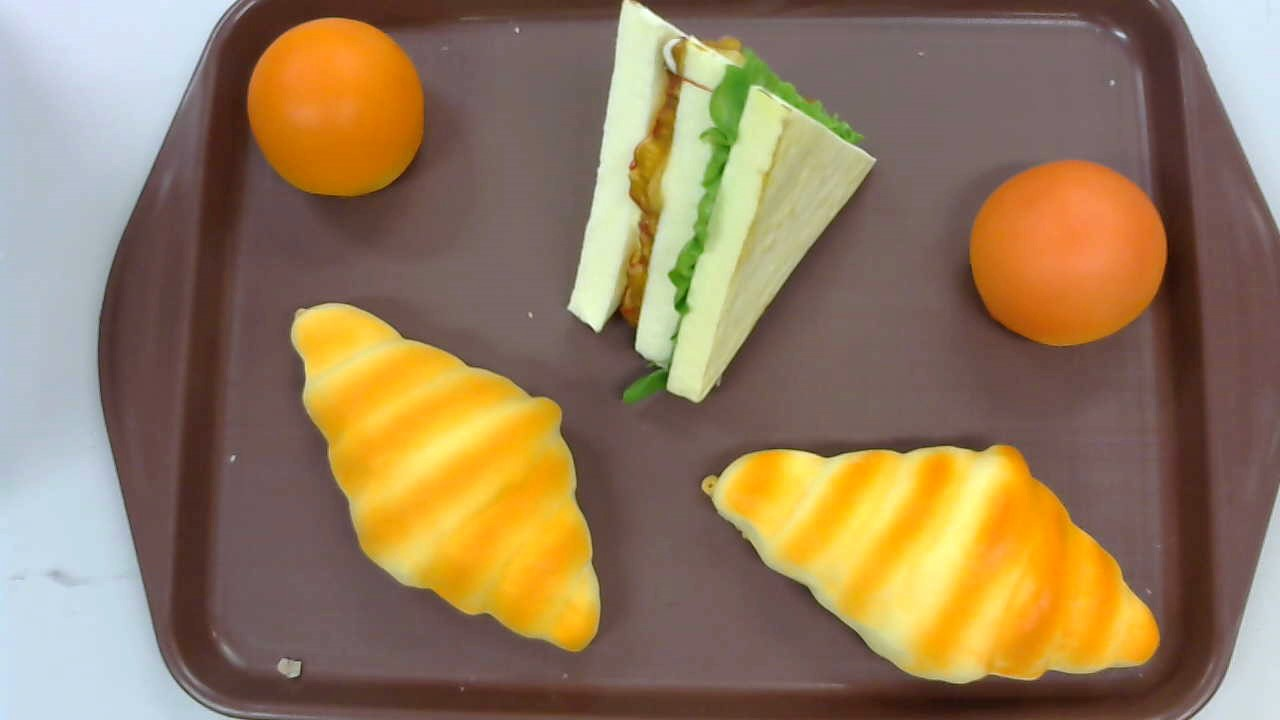bun: (969, 159, 1166, 345), (247, 17, 423, 195)
croissant: (699, 444, 1161, 684), (291, 302, 601, 653)
sandwich: (567, 1, 877, 403)
